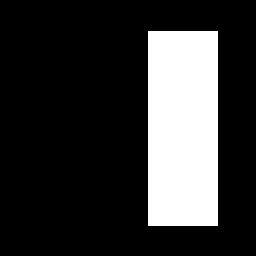person: (148, 31, 217, 225)
